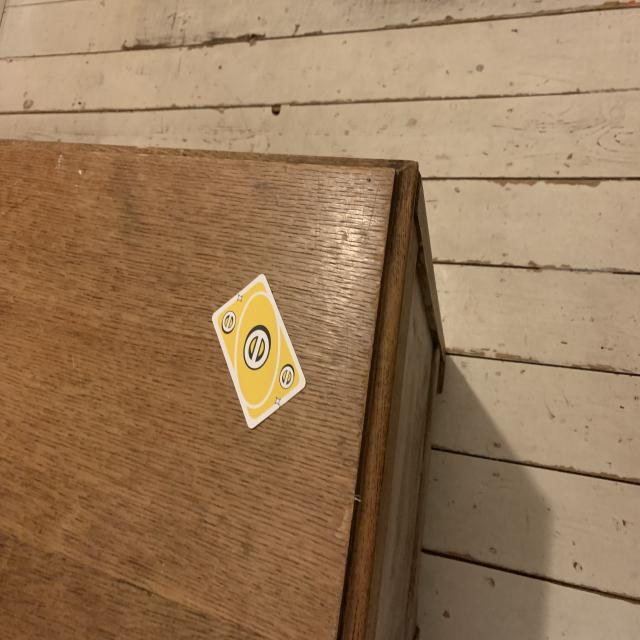lyellowskip-20: (220, 310, 239, 336)
